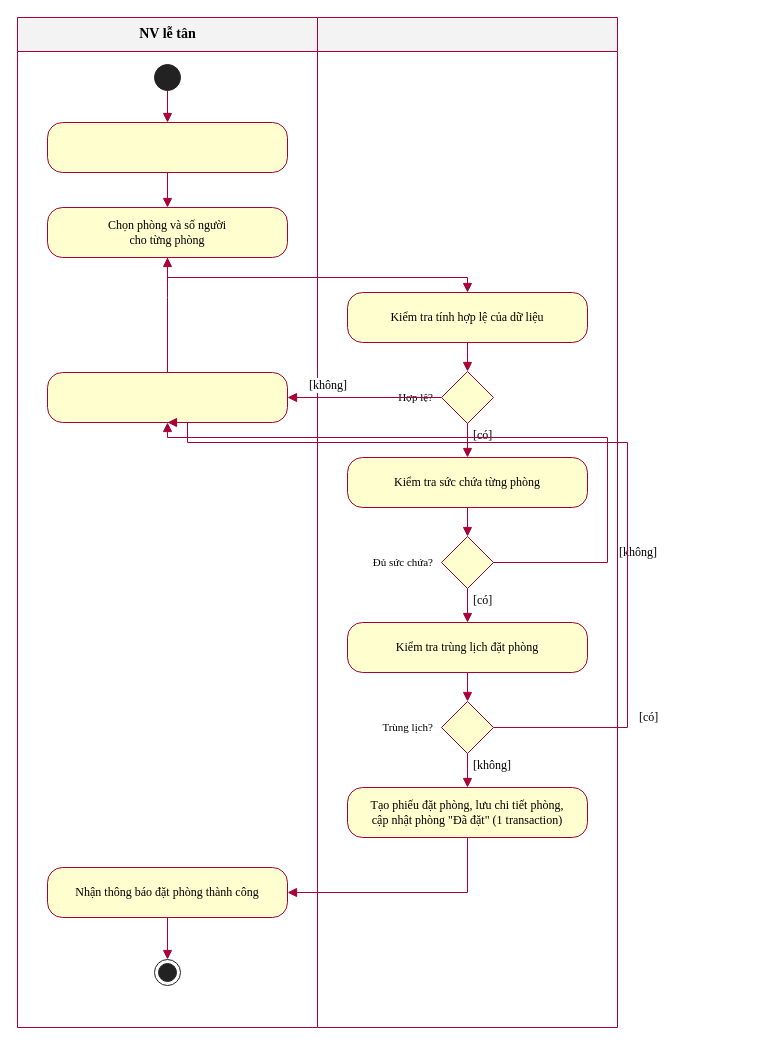
This 775x1045 diagram has some shape labels left out. The box of each missing label's shape, as (x1, y1, x2, y2) in pixels:
Hệ thống: (316, 16, 618, 1028)
Nhập thông tin khách và phiếu đặt (ngày nhận, ngày trả, tiền cọc, kênh): (46, 122, 288, 172)
Sửa lại thông tin: (46, 372, 288, 422)
